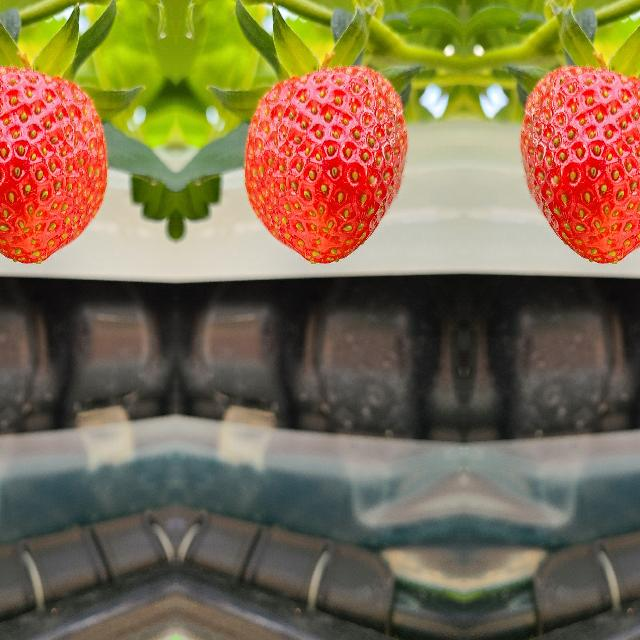Health_100: (242, 65, 408, 268), (517, 64, 640, 267), (0, 64, 108, 267)
